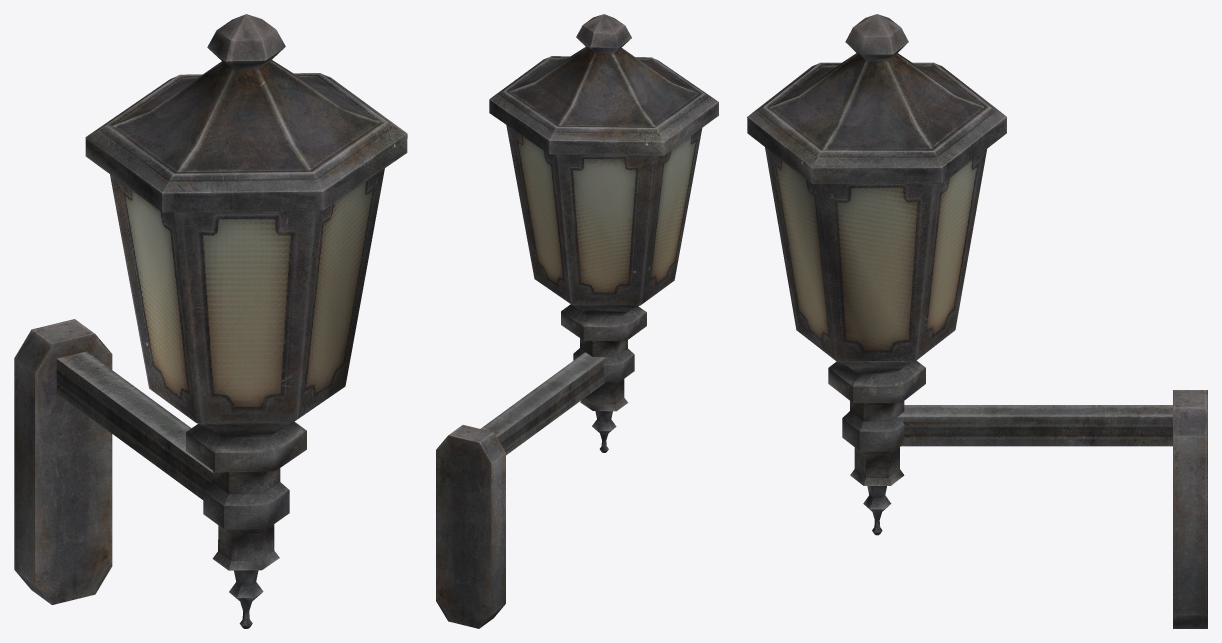
File: SM_Light_02.fbx
3 renders of one model, left to right at view 1: azimuth 30°, elevation 25°; view 2: azimuth 150°, elevation 25°; view 3: azimuth 270°, elevation 25°, orthographic. The views are drawn at different scales.
Visible parts, largest first — view 1: SM_Light_02; view 2: SM_Light_02; view 3: SM_Light_02.
Part boxes in pixels (box(x1,y1,x2,y2)): SM_Light_02: box(14, 14, 407, 628); SM_Light_02: box(436, 14, 718, 628); SM_Light_02: box(747, 14, 1207, 628).
Bounding box in the file's own units: 37.36 × 104 × 71.68.
